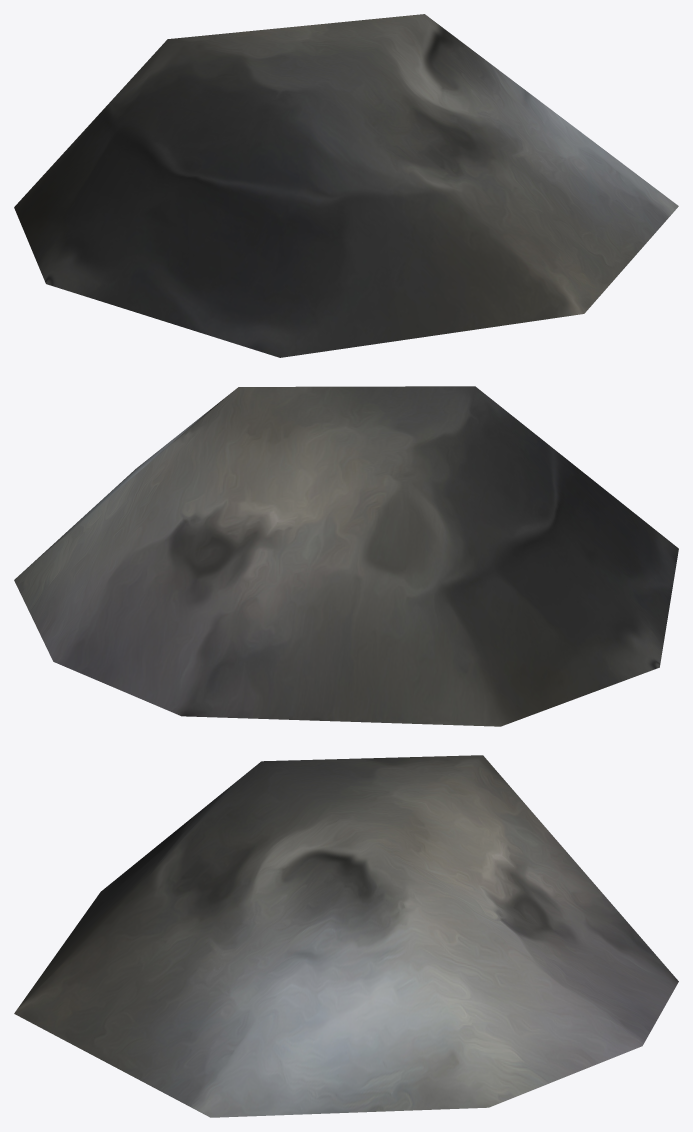
File: stone2.fbx
3 renders of one model, top to bottom at view 1: azimuth 30°, elevation 25°; view 2: azimuth 150°, elevation 25°; view 3: azimuth 270°, elevation 25°, orthographic. The views are drawn at different scales.
Parts seen in each view (by area): view 1: Group9859; view 2: Group9859; view 3: Group9859.
Part boxes in pixels (left/top/right/bottom): Group9859: left=14, top=14, right=678, bottom=357; Group9859: left=14, top=386, right=678, bottom=726; Group9859: left=14, top=755, right=678, bottom=1117.
Bounding box in the file's own units: 83.88 × 25.81 × 83.1.
1 material, 1 textured.
